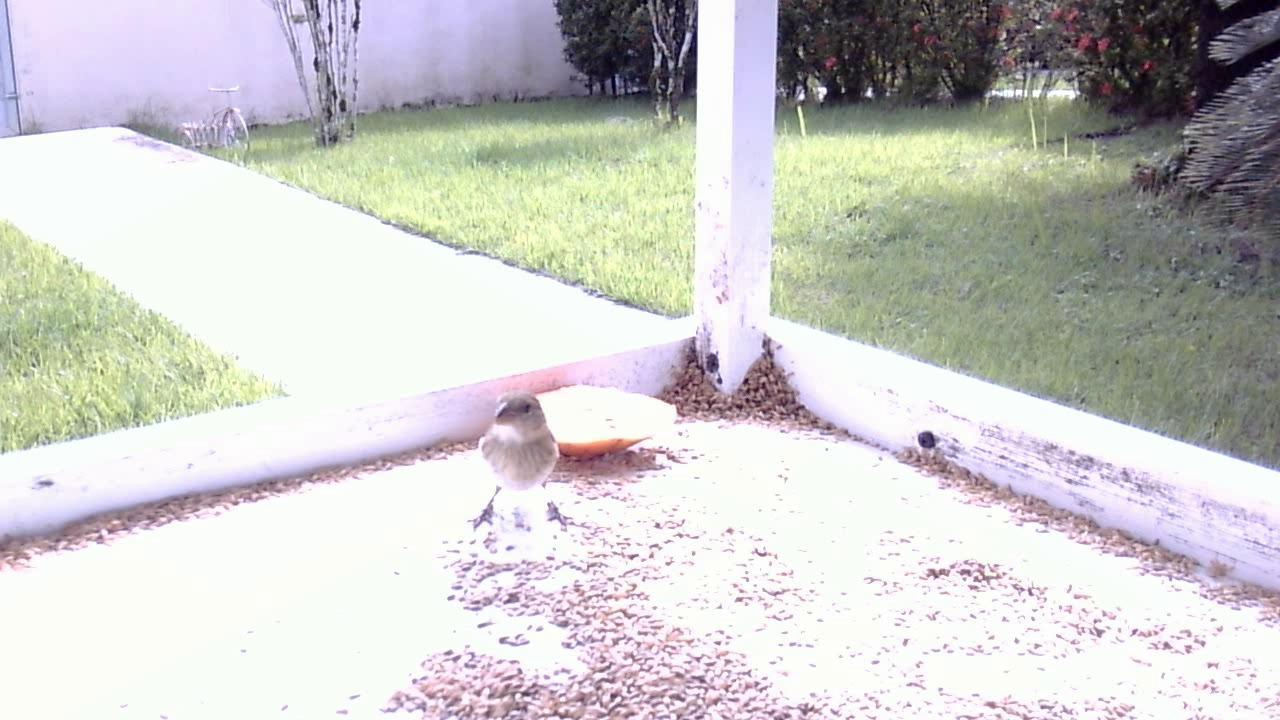canario_do_amazonas: (461, 387, 567, 538)
